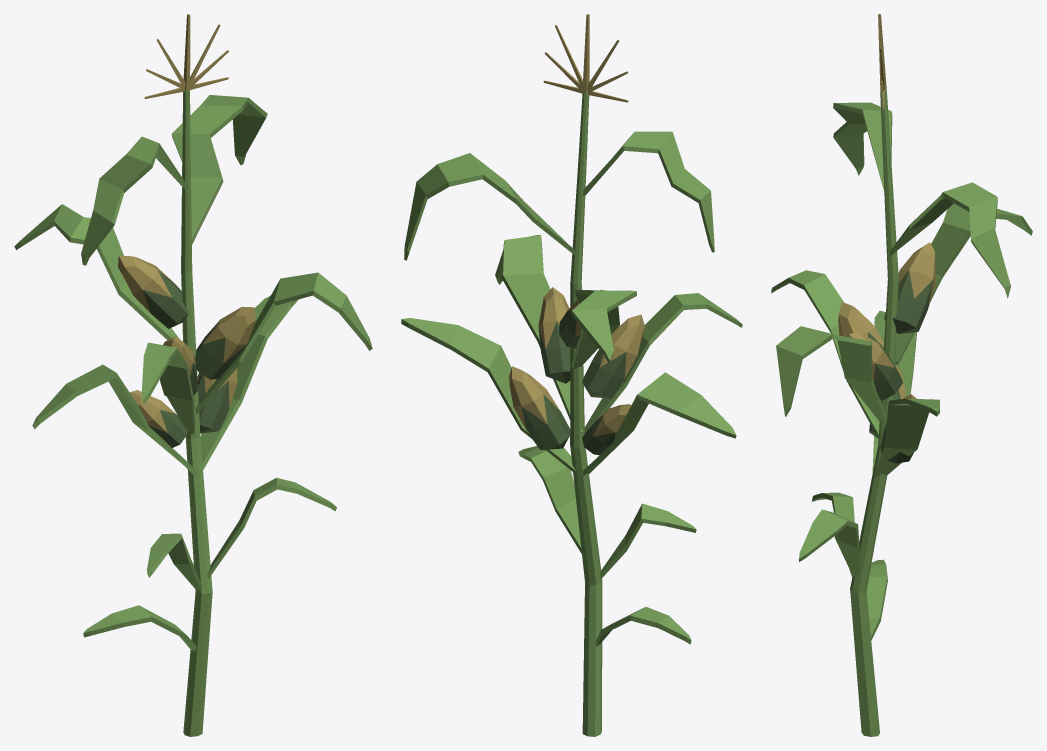
The model's file is Corn_4.glb.
The picture shows the model from 3 angles, left to right: view 1: azimuth 30°, elevation 25°; view 2: azimuth 150°, elevation 25°; view 3: azimuth 270°, elevation 25°; orthographic projection.
Parts seen in each view (by area): view 1: Corn_4; view 2: Corn_4; view 3: Corn_4.
Boxes of the visible parts, x1,y1,x2,y2 form: Corn_4: [14, 14, 372, 736]; Corn_4: [401, 14, 742, 736]; Corn_4: [771, 14, 1032, 736].
Size of the model in its own units: 0.8873 by 1.97 by 0.649.
